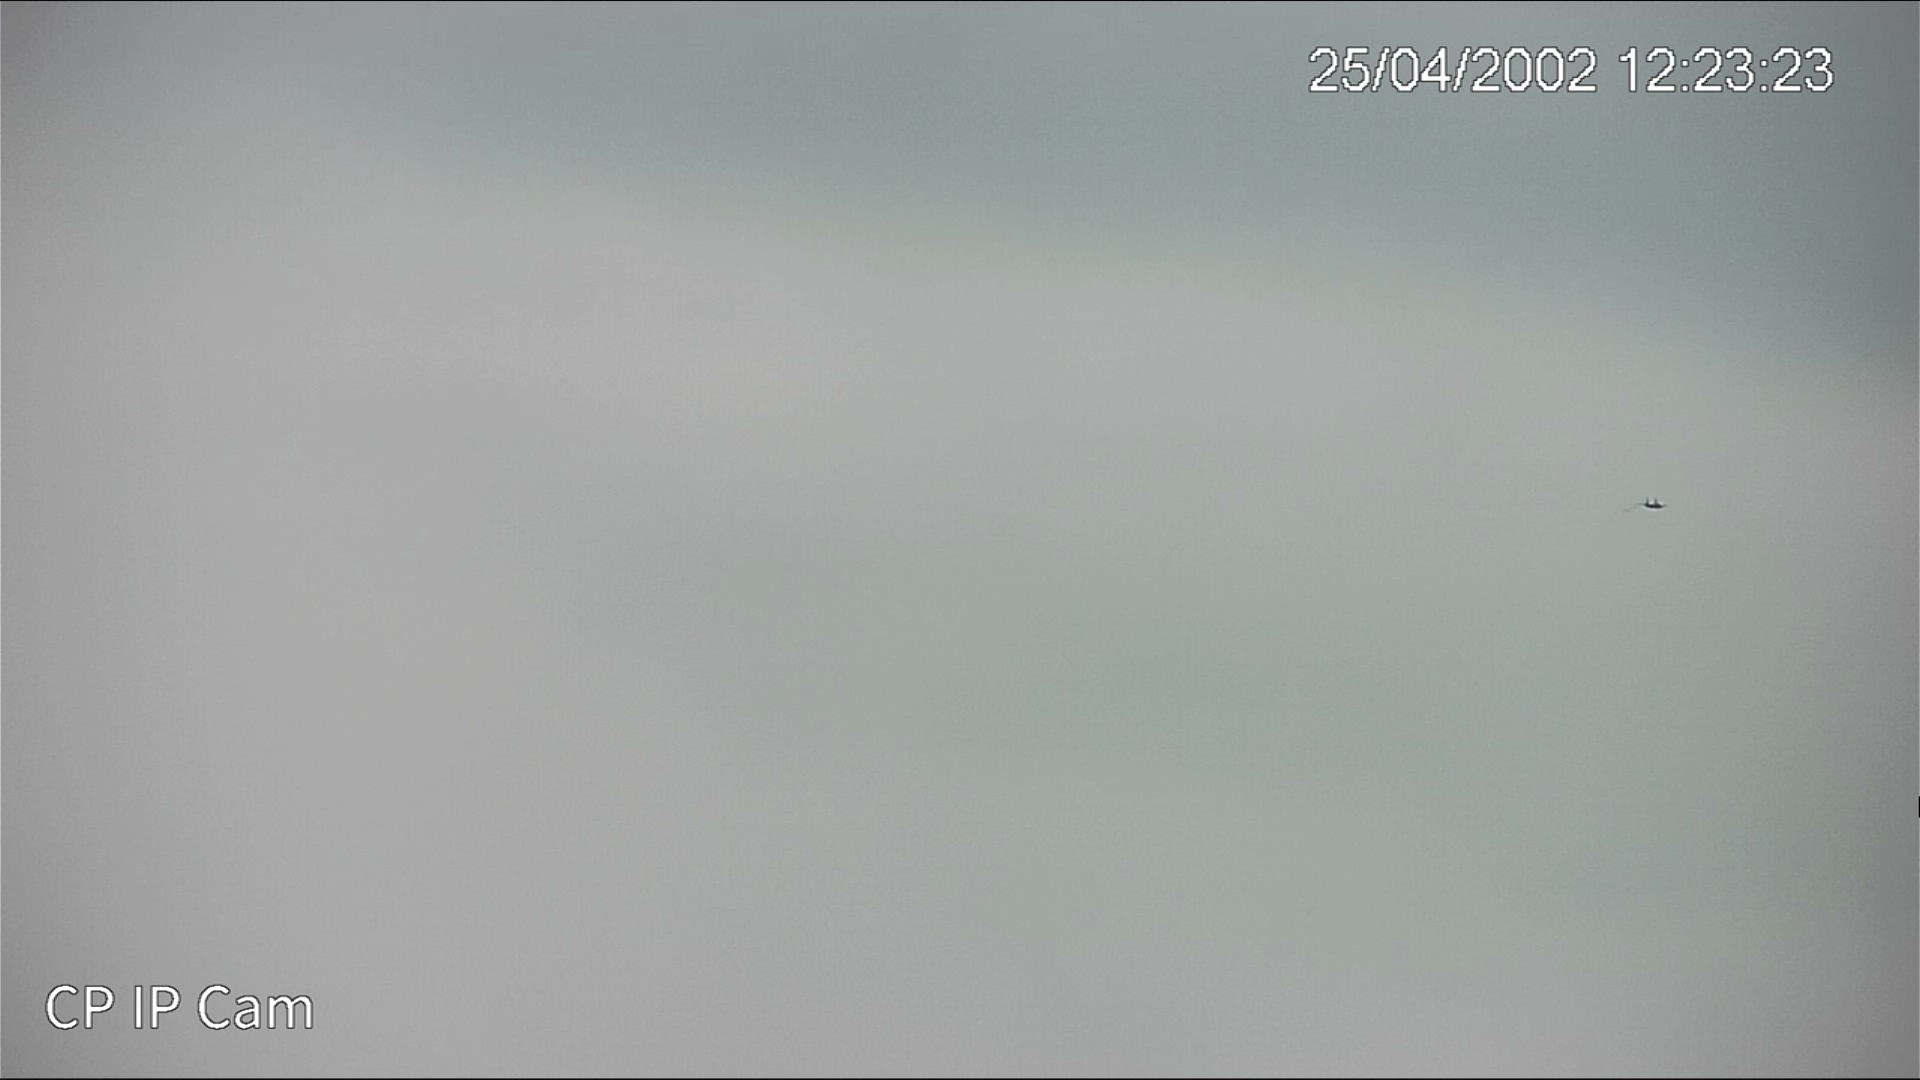SU_30: (1631, 498, 1665, 512)
